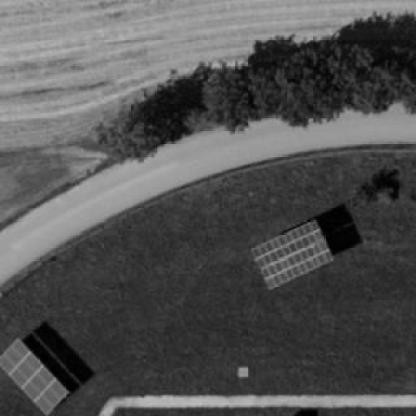solar-pv-panel: (250, 219, 334, 290), (0, 337, 69, 416)
